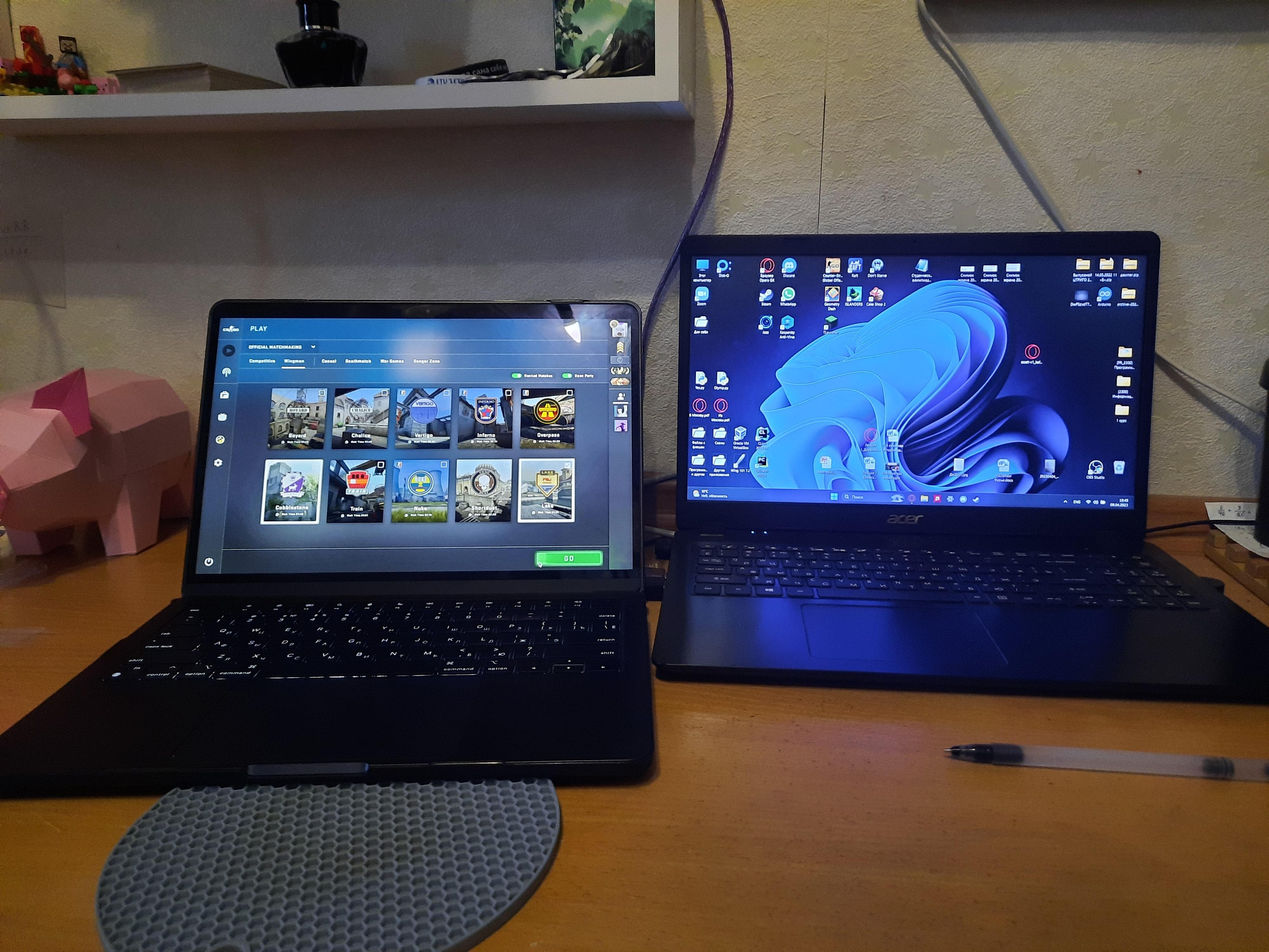monitor: (671, 222, 1171, 524), (186, 289, 644, 595)
